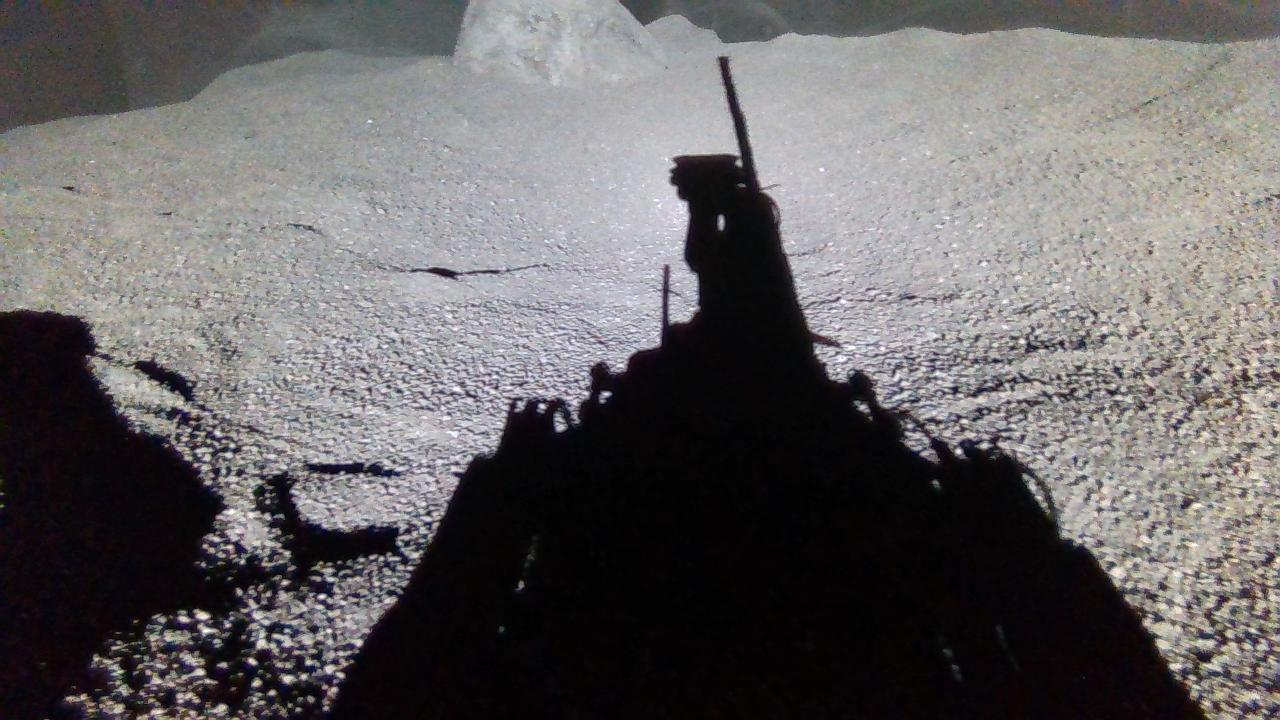rock: (454, 2, 667, 84)
